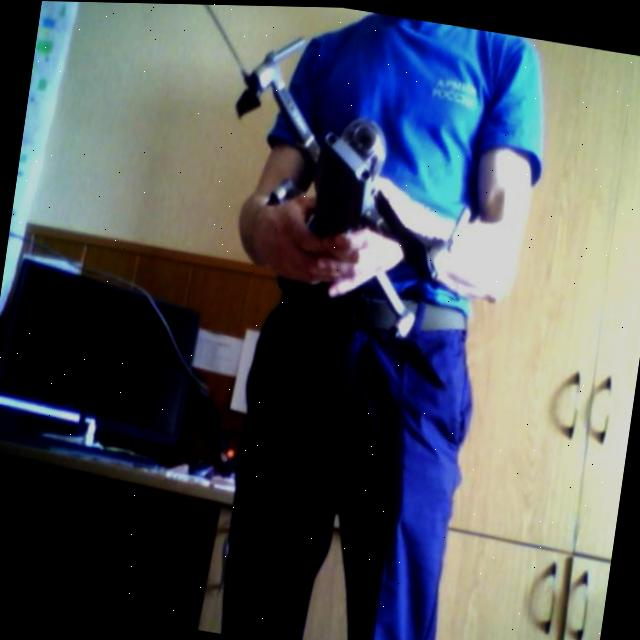drone: (172, 14, 516, 357)
